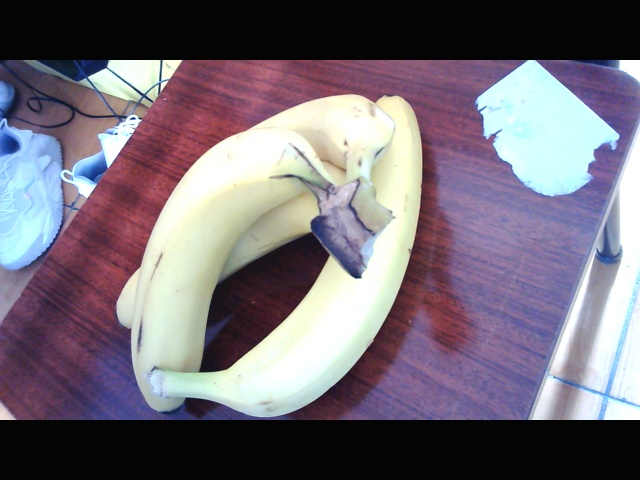banana: (121, 98, 437, 416)
